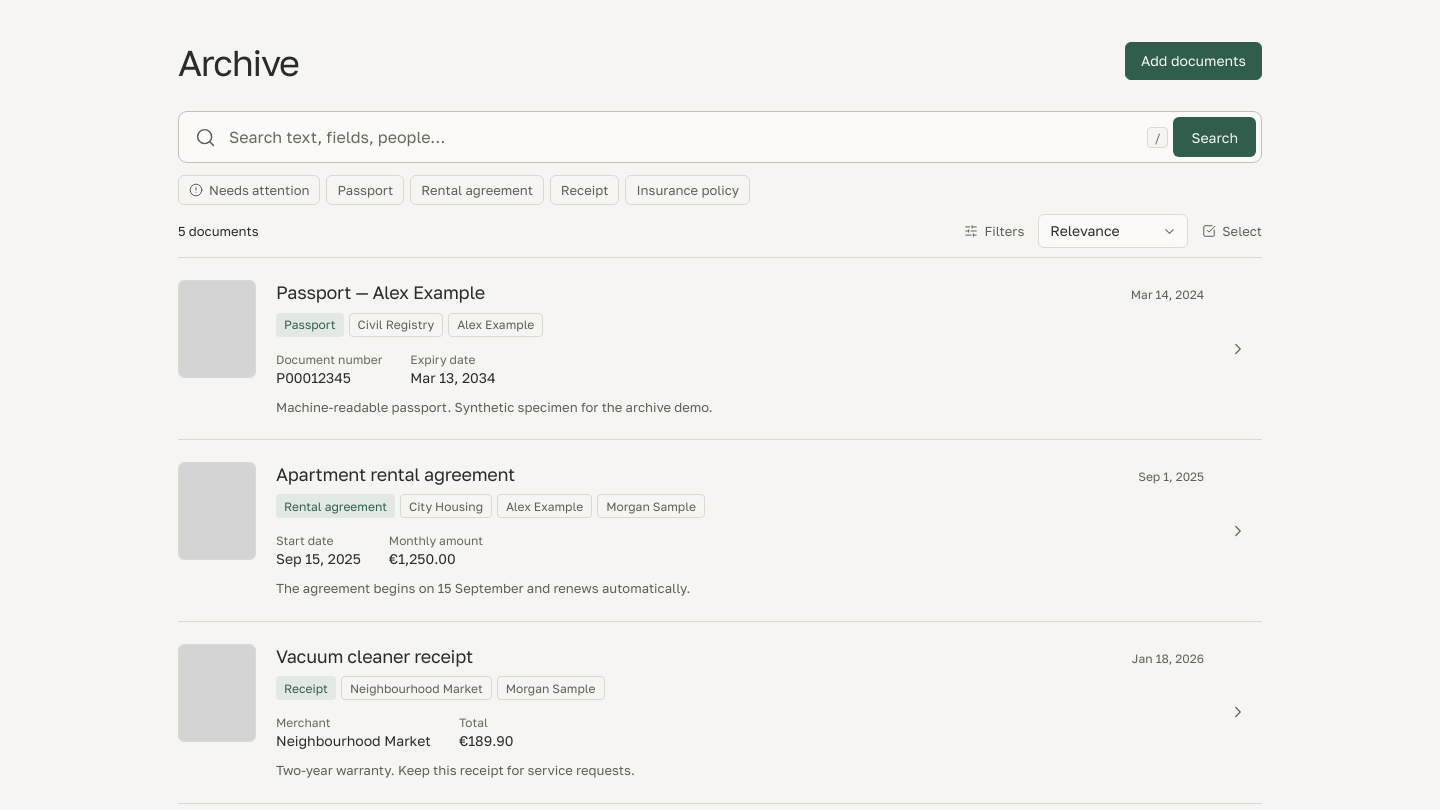
ArchivePage selection › moves the selection to trash and Undo restores every document
The width and height of the screenshot is (1440, 810).
Later steps or results of the test are not shown.
Click the button "Select". click: (1232,231)
box: [1202,215,1262,247]
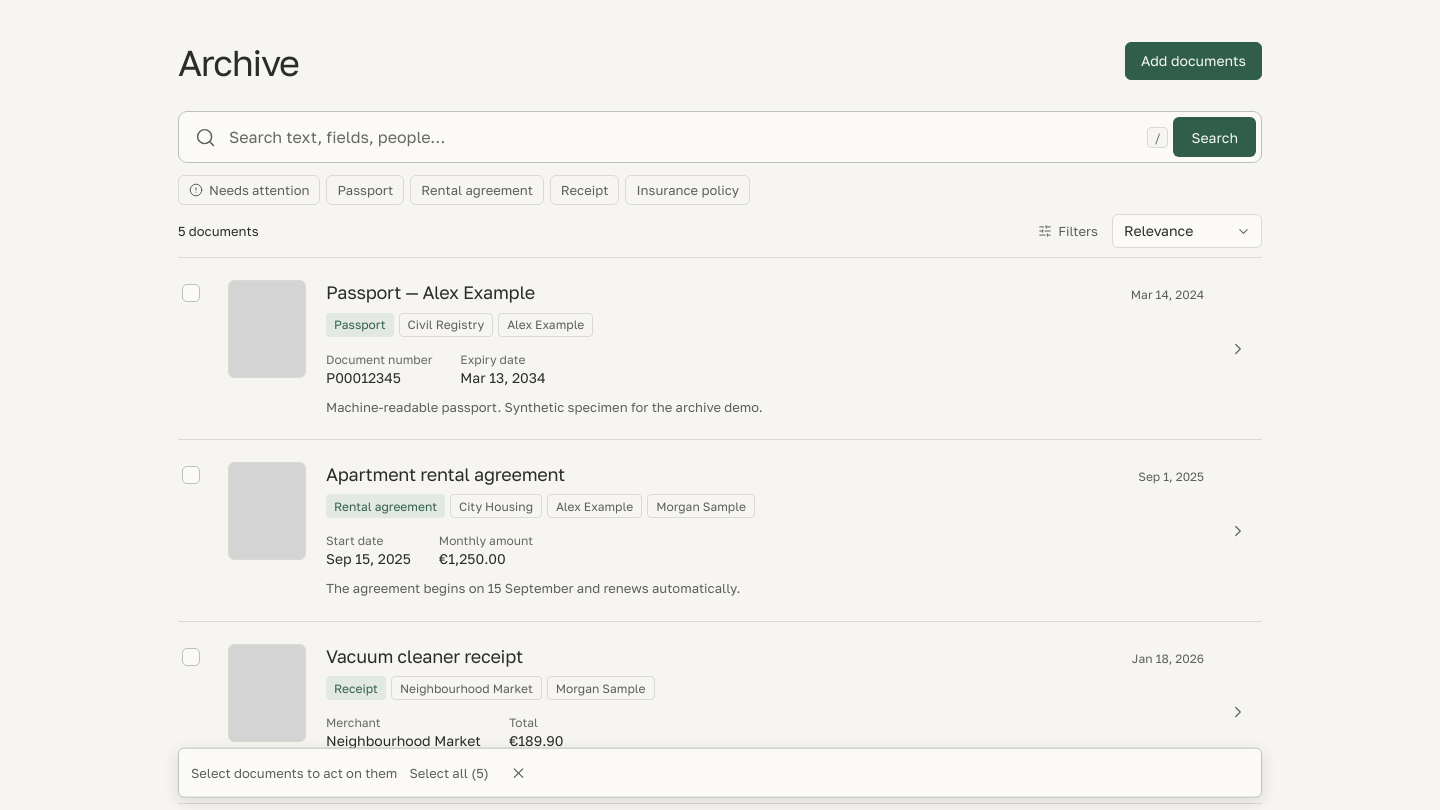
Click the checkbox named "Select “Passport — Alex Example”". click: (191,293)
box: [182,284,200,302]
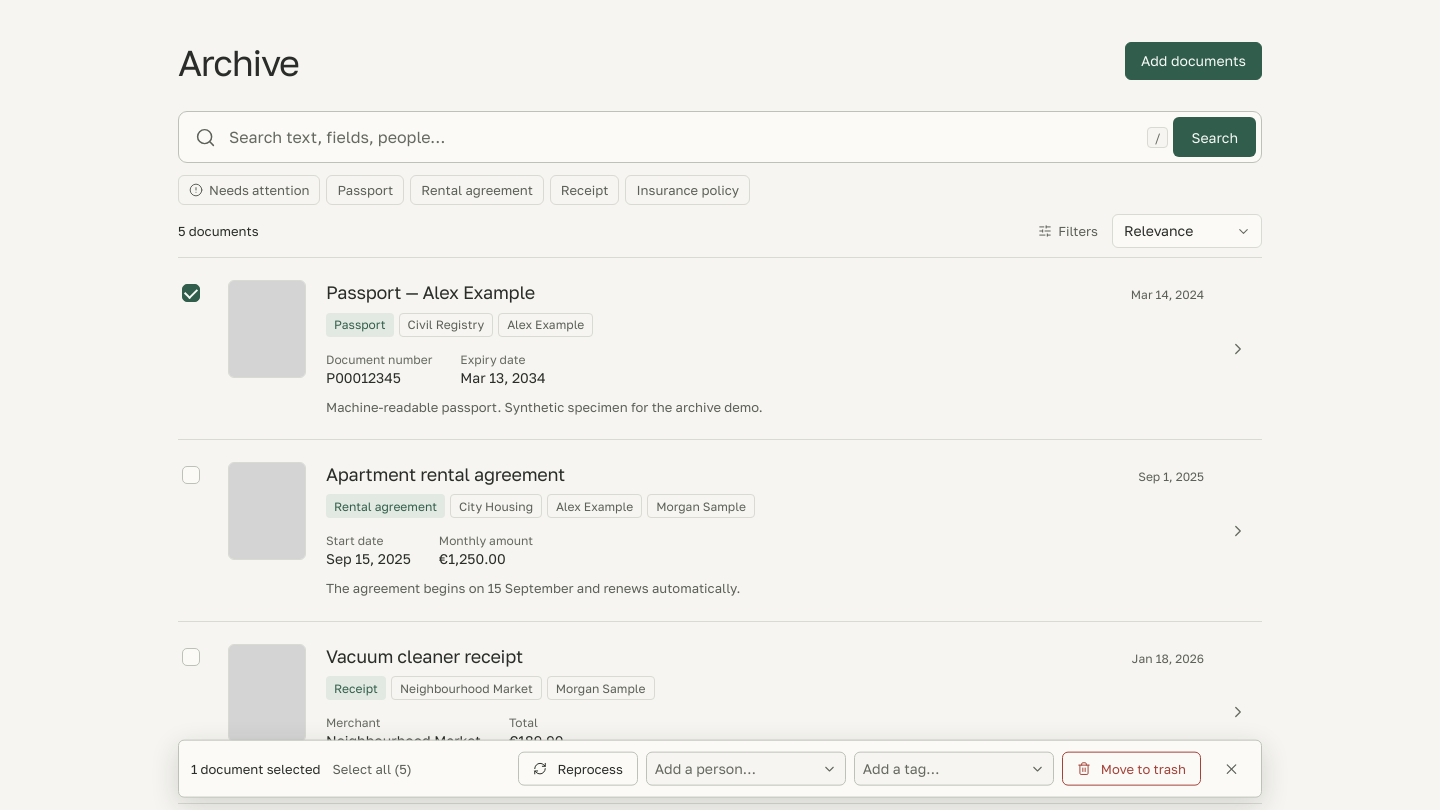
Click the checkbox named "Select “Apartment rental agreement”". click: (191,475)
box: [182,466,200,484]
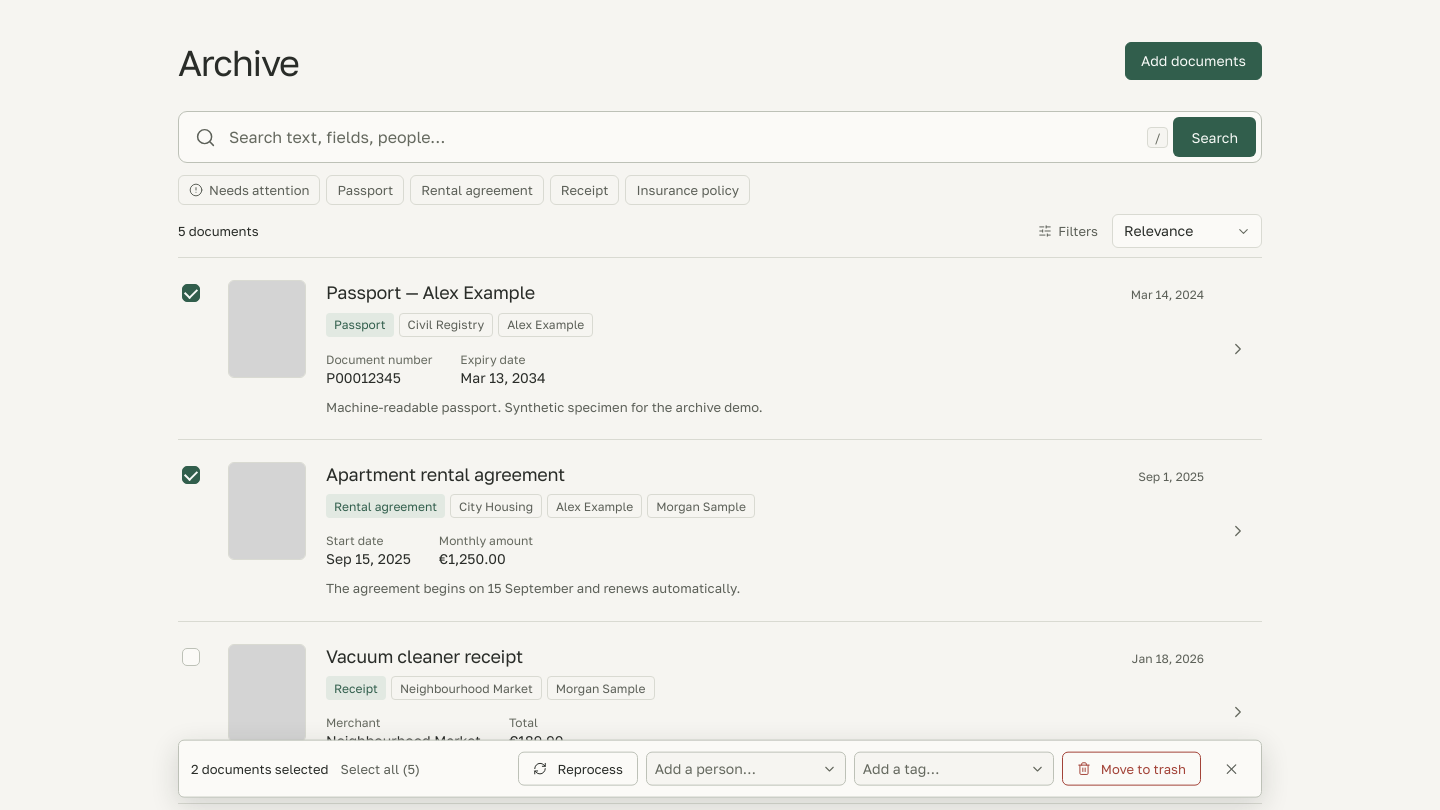
Click the button "Move to trash". click: (1131,769)
box: [1062,752,1201,786]
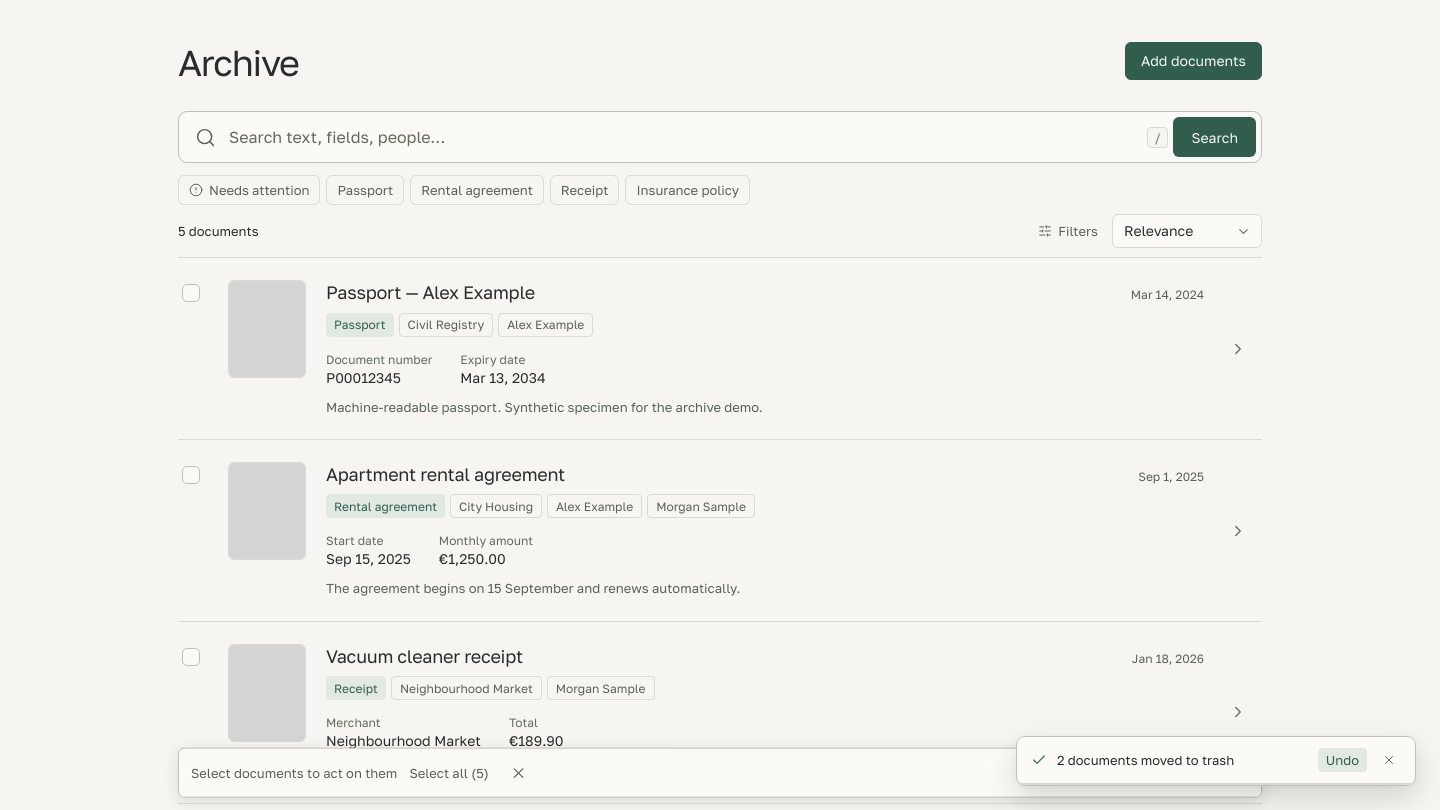
Expected: the text "2 documents moved to trash" is shown, [1057,752,1234,768]
